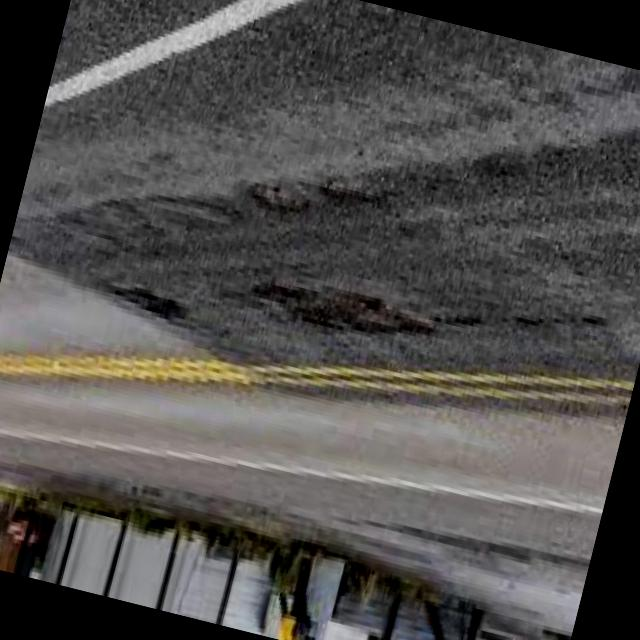Pathole: (233, 276, 602, 337), (117, 287, 185, 321), (325, 180, 398, 205), (250, 183, 300, 209)
